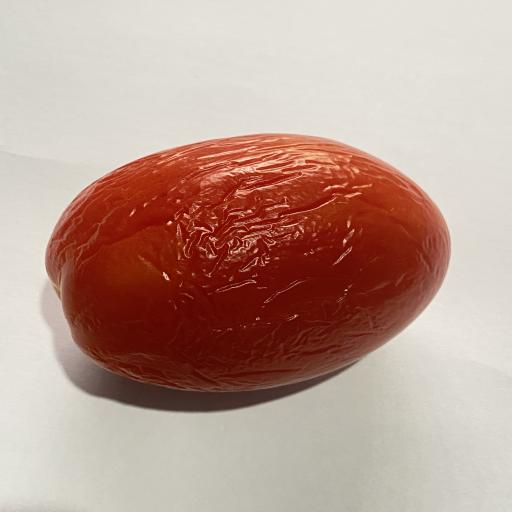spoiled: (46, 134, 450, 391)
